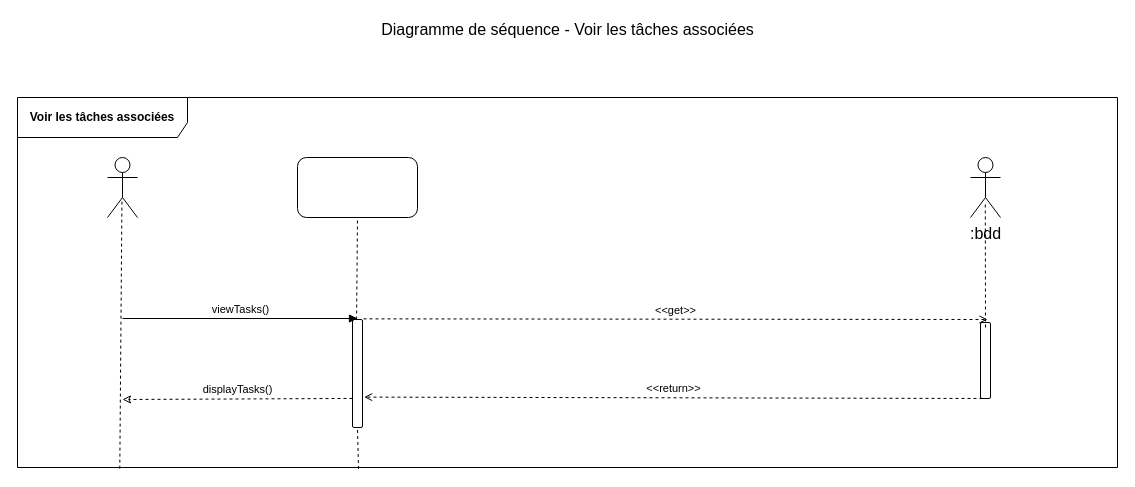
The diagram is 1135 pixels wide and 487 high, and some of its shapes have lost their labels. Each missing label, with the centre of its shape:
:system: (357,187)
:utilisateur: (122,187)
